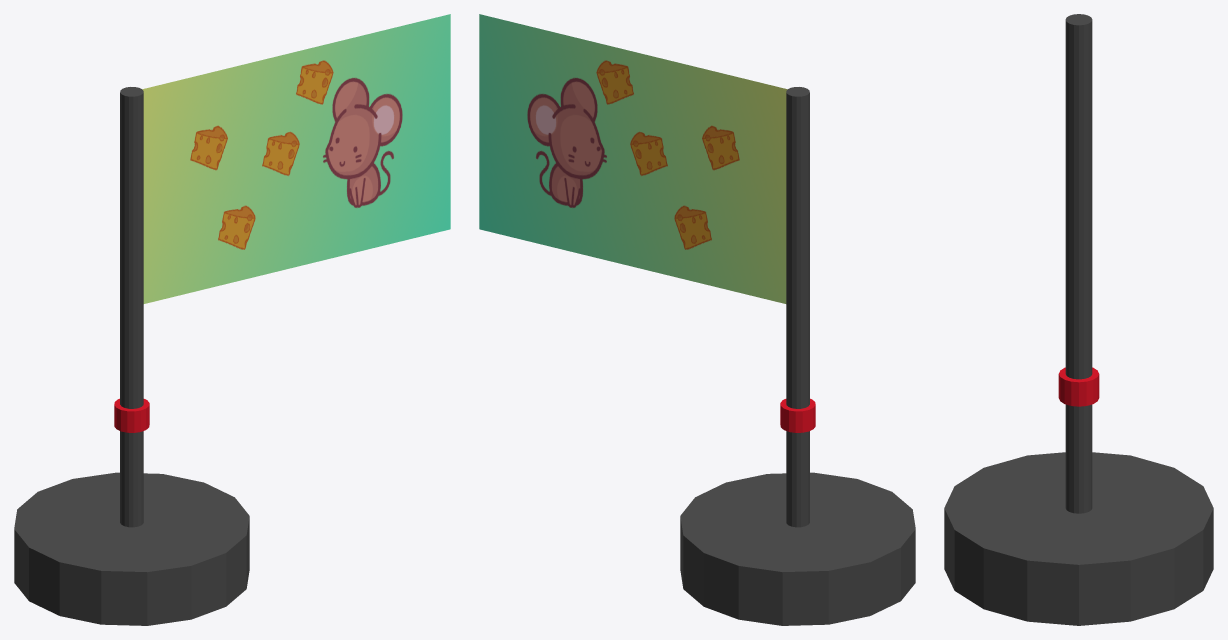
Rendered from Flag_nowave.glb.
3 renders of one model, left to right at view 1: azimuth 30°, elevation 25°; view 2: azimuth 150°, elevation 25°; view 3: azimuth 270°, elevation 25°, orthographic. The views are drawn at different scales.
Visible parts, largest first — view 1: Flag, FlagBase, FlagPole; view 2: Flag, FlagBase, FlagPole; view 3: FlagBase, FlagPole.
Part boxes in pixels (x1=…): Flag: x1=142, y1=14, x2=450, y2=303; FlagBase: x1=14, y1=472, x2=249, y2=625; FlagPole: x1=114, y1=87, x2=149, y2=527; Flag: x1=479, y1=14, x2=787, y2=303; FlagBase: x1=680, y1=472, x2=915, y2=625; FlagPole: x1=780, y1=87, x2=815, y2=527; FlagBase: x1=944, y1=452, x2=1213, y2=625; FlagPole: x1=1058, y1=14, x2=1099, y2=513.
Size of the model in its own units: 4.1 by 4.5 by 2.
3 materials, 1 textured.
